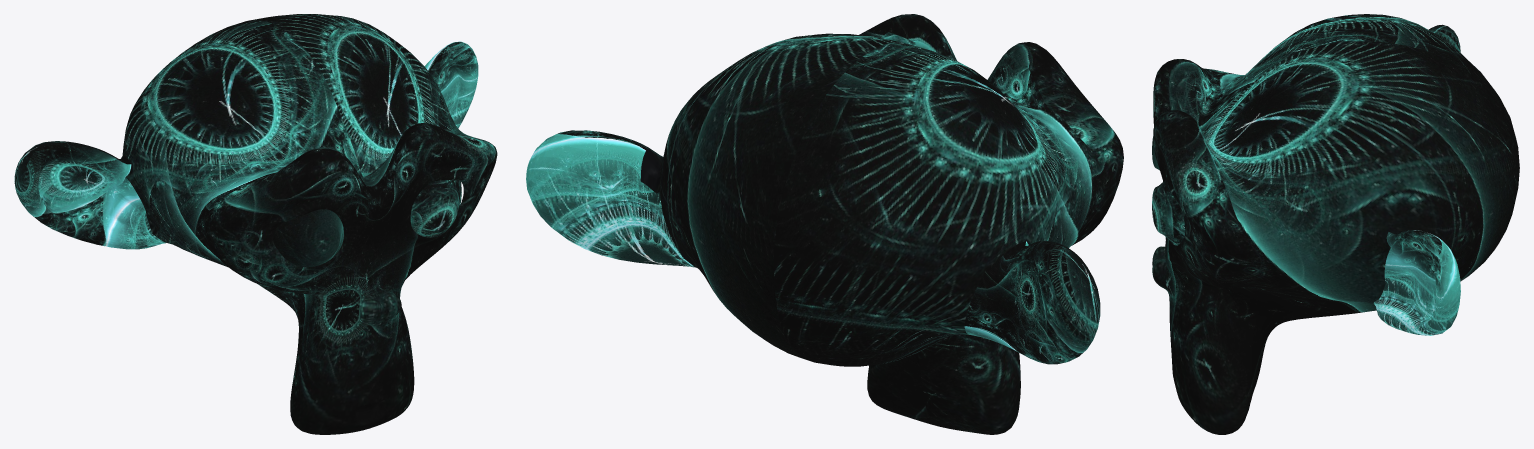
3 renders of one model, left to right at view 1: azimuth 30°, elevation 25°; view 2: azimuth 150°, elevation 25°; view 3: azimuth 270°, elevation 25°, orthographic. The views are drawn at different scales.
Parts seen in each view (by area): view 1: Suzanne; view 2: Suzanne; view 3: Suzanne.
Boxes of the visible parts, x1,y1,x2,y2 form: Suzanne: (14, 14, 497, 434); Suzanne: (526, 14, 1123, 434); Suzanne: (1152, 14, 1519, 434).
Bounding box in the file's own units: 2.66 × 1.91 × 1.69.
Materials: 1 (1 with a texture image).
